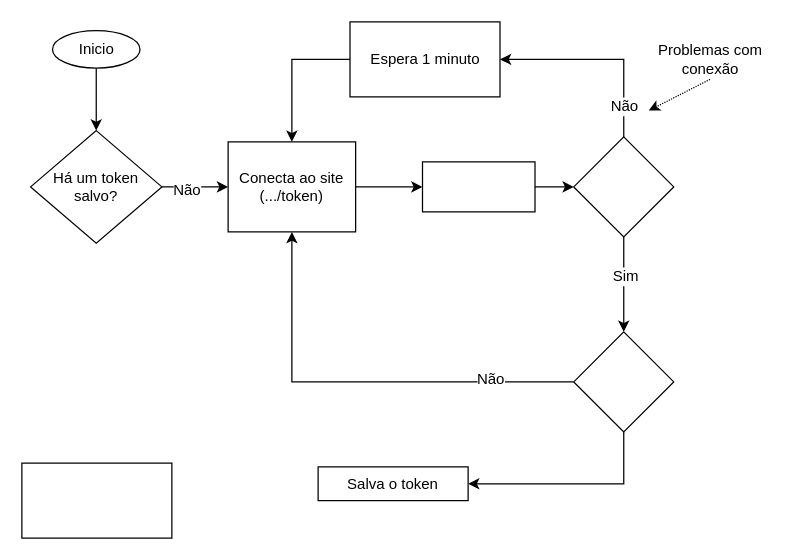
This 794x560 diagram has some shape labels left out. Each missing label, with the box of its shape:
HttpCode 200 ?: (572, 136, 674, 237)
Msg ok?: (572, 331, 674, 432)
Post: email e senha: (421, 161, 535, 212)
